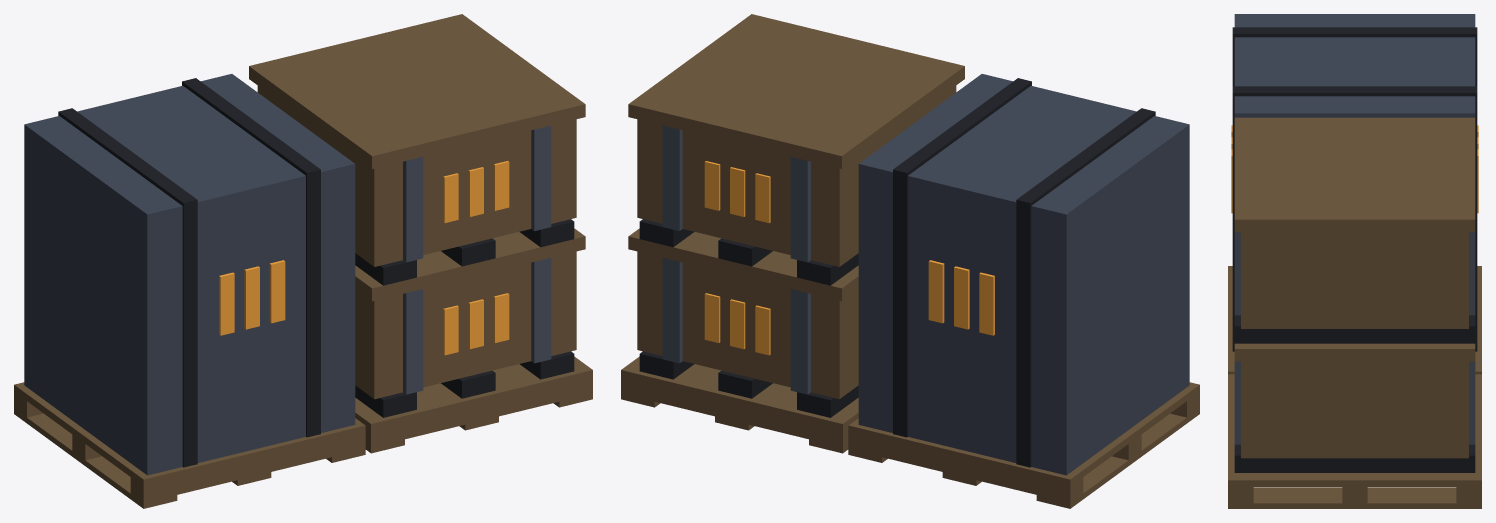
The model's file is PalletLoad.glb.
3 views of the same model, side by side, from view 1: azimuth 30°, elevation 25°; view 2: azimuth 150°, elevation 25°; view 3: azimuth 270°, elevation 25° (orthographic). The views are drawn at different scales.
Visible parts, largest first — view 1: Wrap, Timber, Dark, Steel, Accent; view 2: Wrap, Timber, Dark, Steel, Accent; view 3: Timber, Wrap, Dark, Steel, Accent.
Part boxes in pixels (bbox=[...]): Wrap: bbox=[24, 74, 355, 475]; Timber: bbox=[14, 14, 592, 508]; Dark: bbox=[58, 78, 574, 467]; Steel: bbox=[403, 125, 551, 394]; Accent: bbox=[219, 161, 509, 355]; Wrap: bbox=[858, 74, 1189, 475]; Timber: bbox=[621, 14, 1199, 508]; Dark: bbox=[639, 78, 1155, 467]; Steel: bbox=[662, 125, 810, 394]; Accent: bbox=[704, 161, 994, 355]; Timber: bbox=[1228, 117, 1481, 508]; Wrap: bbox=[1234, 14, 1475, 117]; Dark: bbox=[1232, 27, 1477, 472]; Steel: bbox=[1234, 232, 1475, 444]; Accent: bbox=[1231, 125, 1478, 213].
Bounding box in the file's own units: 8 × 5 × 4.
